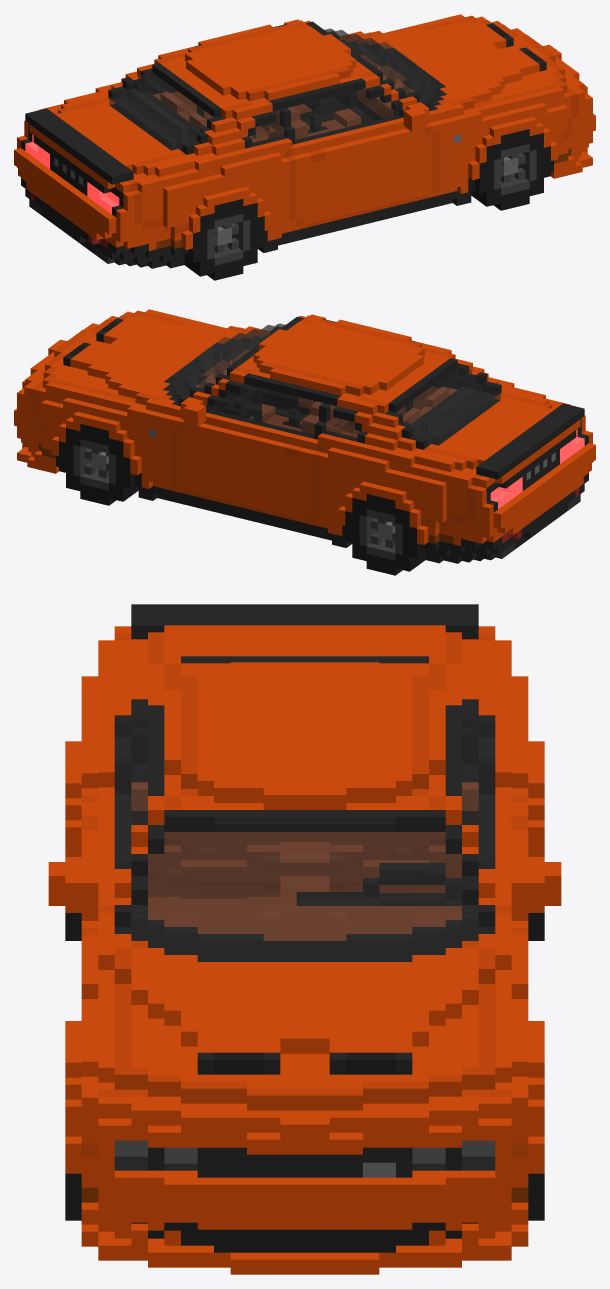
Rendered from dodge.glb.
The picture shows the model from 3 angles, top to bottom: view 1: azimuth 30°, elevation 25°; view 2: azimuth 150°, elevation 25°; view 3: azimuth 270°, elevation 25°; orthographic projection. The views are drawn at different scales.
Visible parts, largest first — view 1: Dodge Challenger SRT; view 2: Dodge Challenger SRT; view 3: Dodge Challenger SRT.
Boxes of the visible parts, x1,y1,x2,y2 form: Dodge Challenger SRT: (14, 14, 595, 280); Dodge Challenger SRT: (14, 309, 595, 575); Dodge Challenger SRT: (48, 604, 561, 1274).
Size of the model in its own units: 69 by 20 by 31.
